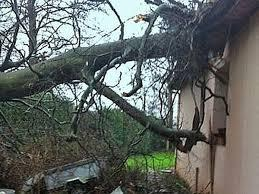Downstairs: (1, 5, 207, 144)
